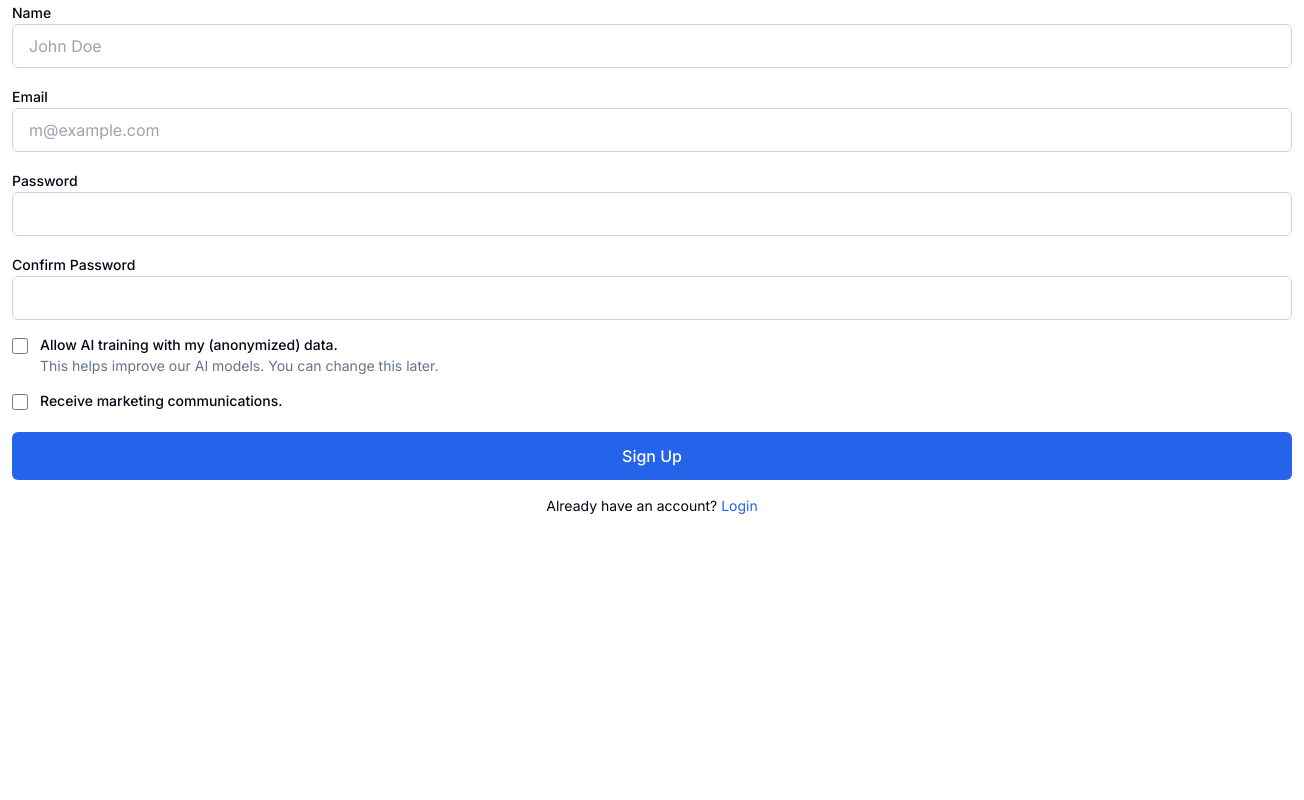
SignupForm Component › displays validation errors for empty required fields
The width and height of the screenshot is (1304, 800).
Click the button "Sign Up": (652, 456) [12, 432, 1292, 480]
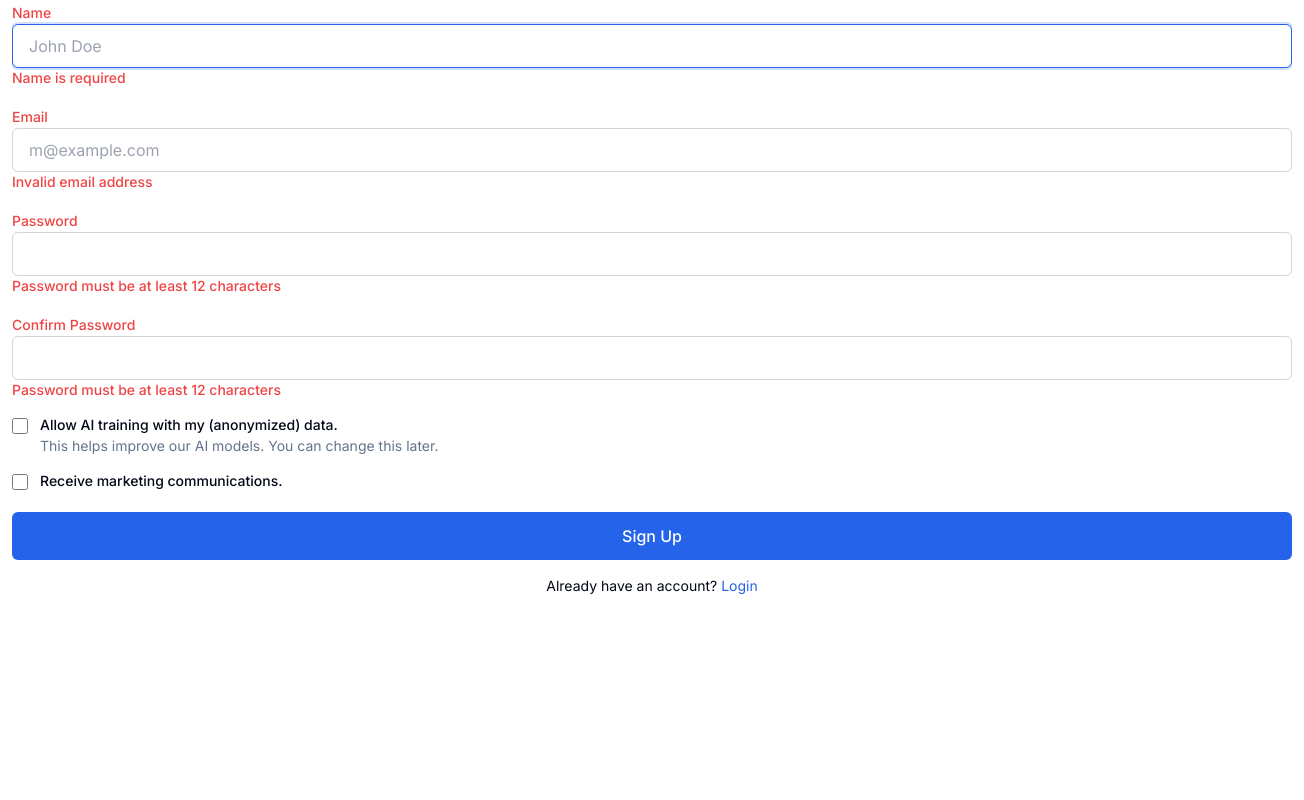
Check: the text "Name is required" is shown, box [12, 69, 126, 86]
Check: the text "Invalid email address" is shown, box [12, 173, 152, 190]
Check: the text "Password must be at least 12 characters" is shown 2 times, box [12, 277, 281, 294]; [12, 381, 281, 398]
